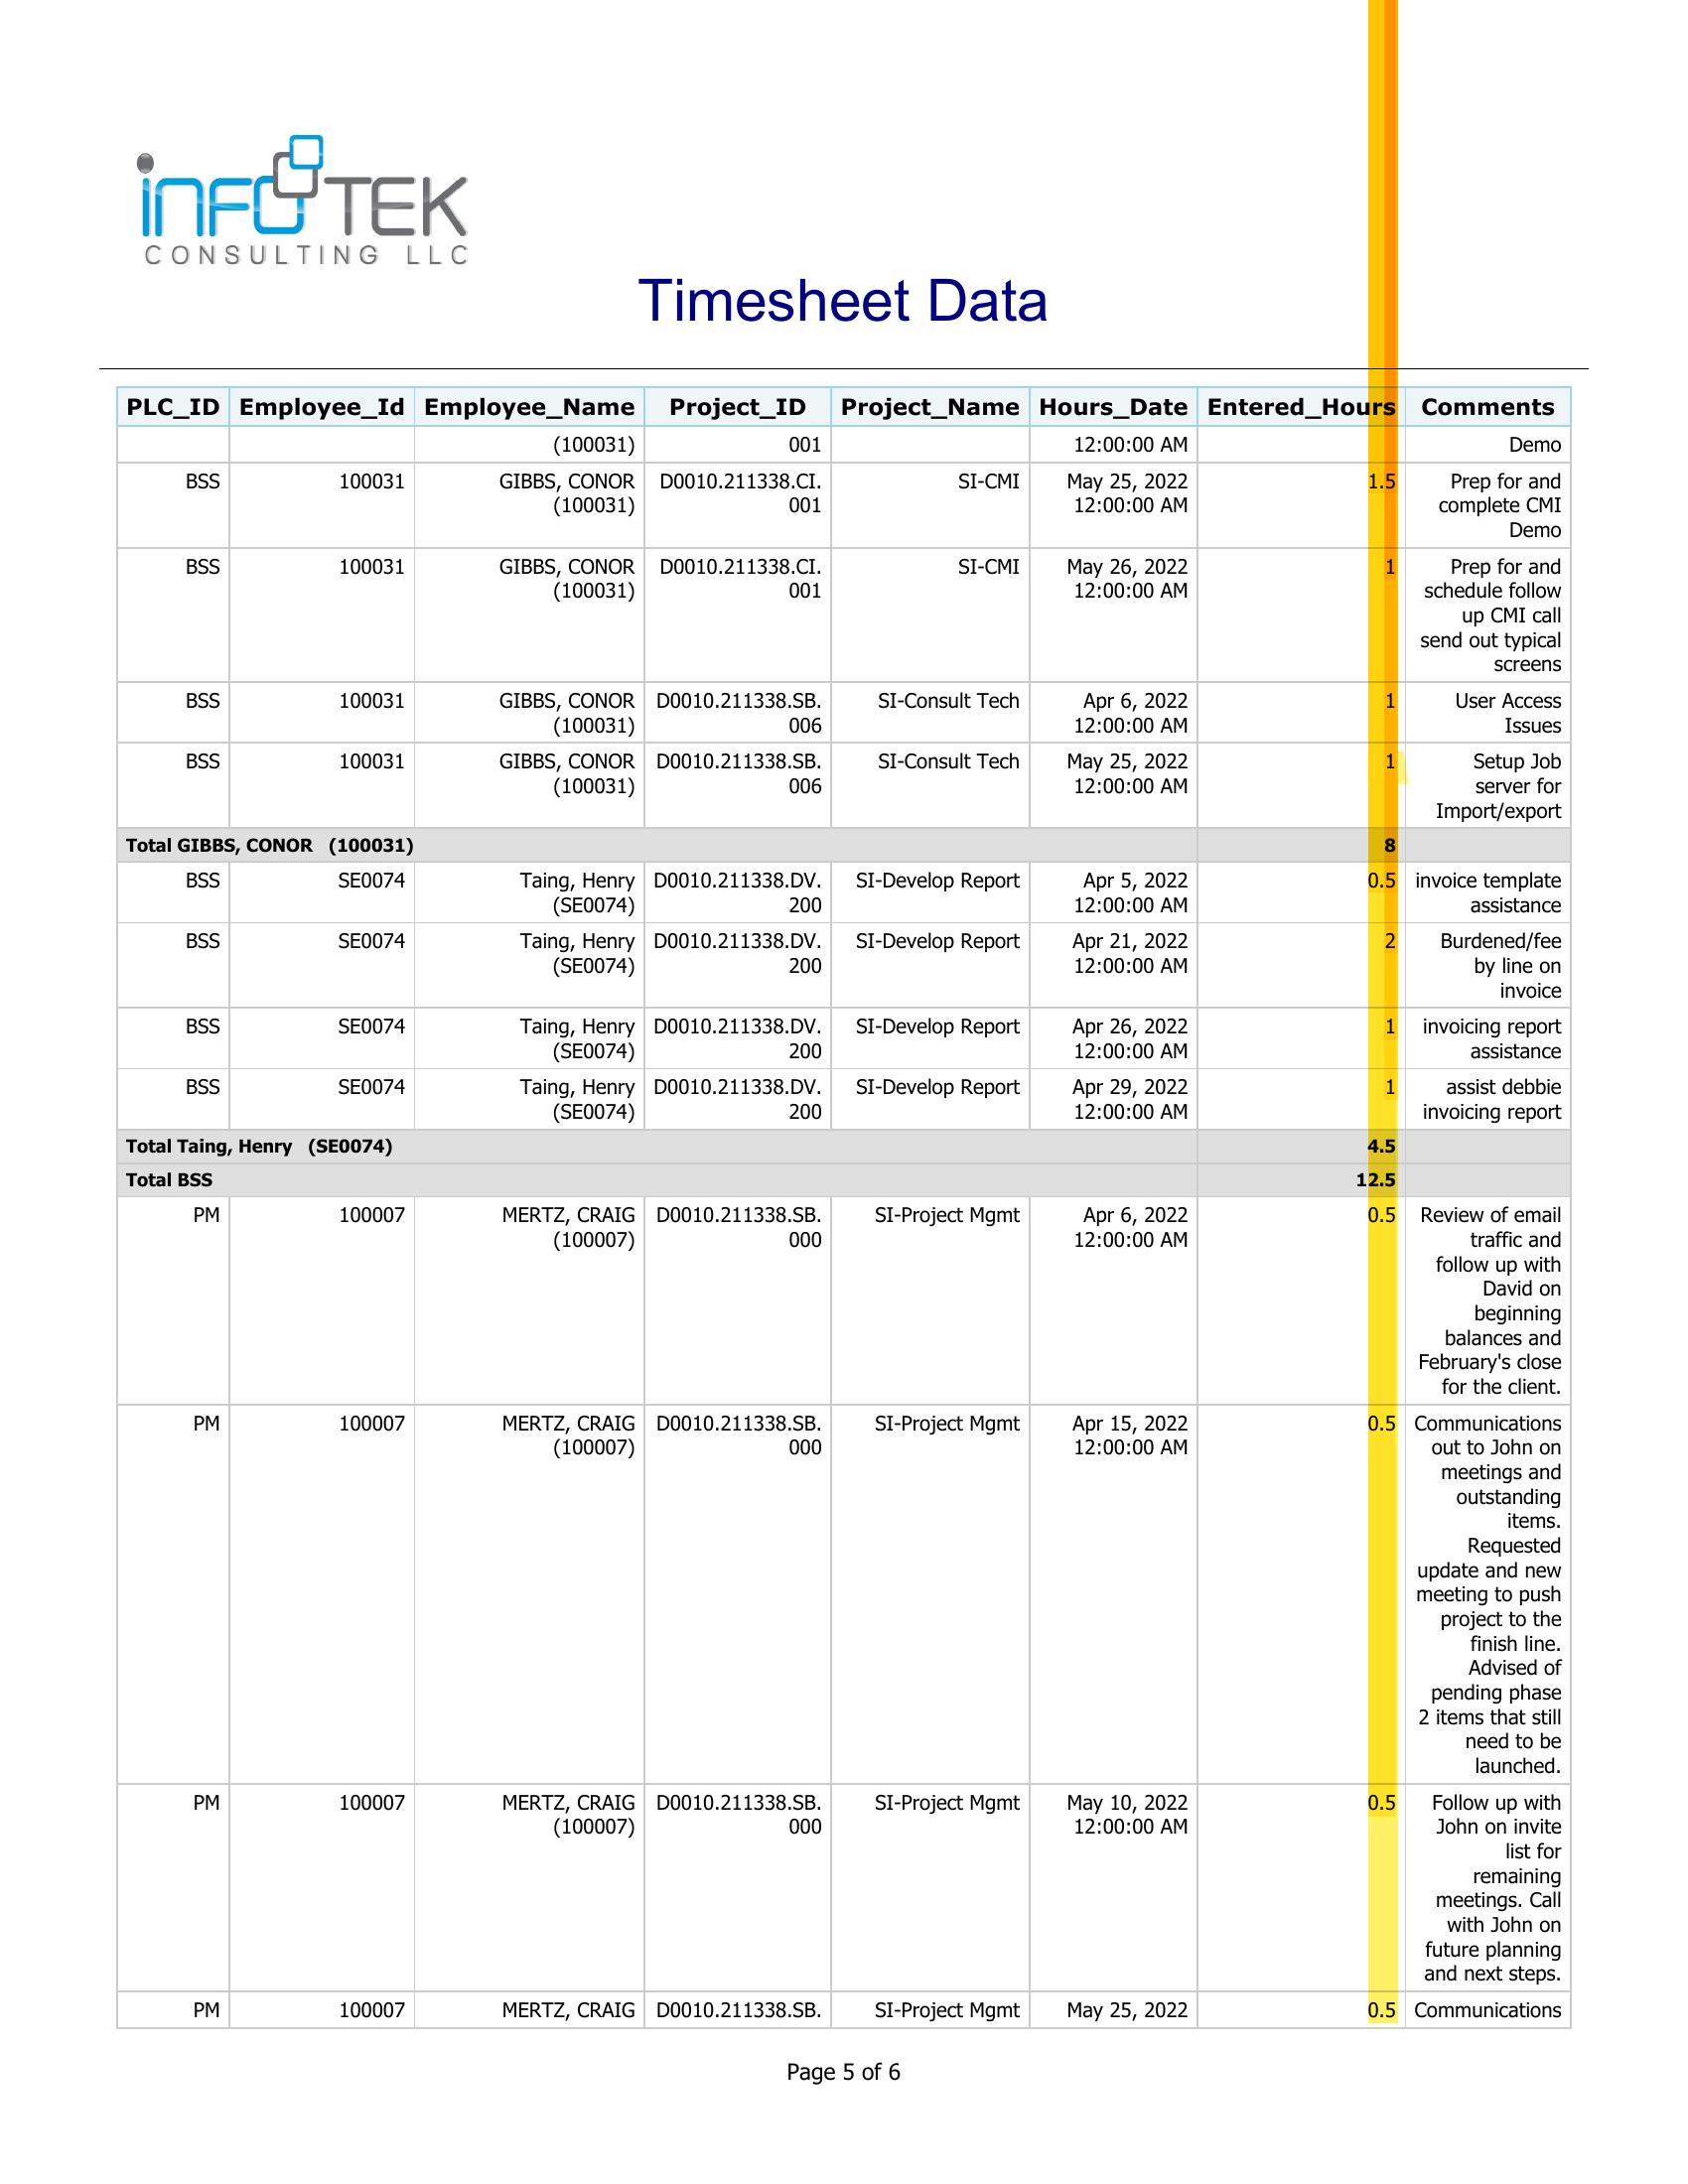table: (112, 369, 1585, 2039)
